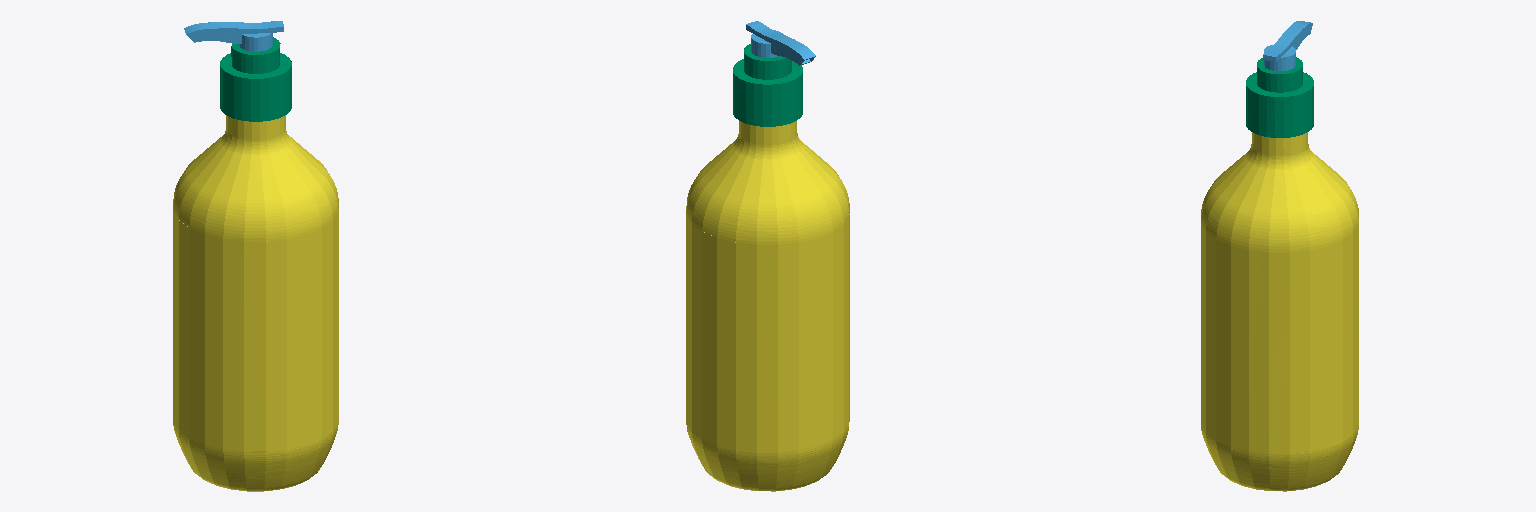
URDF robot description (partnet_2ee426dc-f596-4d61-acdf-8318ec993da3-0):
<?xml version="1.0" ?>
<robot name="partnet_2ee426dc-f596-4d61-acdf-8318ec993da3-0">
	<link name="base"/>
	<link name="link_0">
		<visual name="pressing_lid-1">
			<origin xyz="0.004993354378022013 0 -0.0007900618126496951"/>
			<geometry>
				<mesh filename="textured_objs/original_7.obj"/>
			</geometry>
		</visual>
		<visual name="pressing_lid-1">
			<origin xyz="0.004993354378022013 0 -0.0007900618126496951"/>
			<geometry>
				<mesh filename="textured_objs/original_10.obj"/>
			</geometry>
		</visual>
		<visual name="pressing_lid-1">
			<origin xyz="0.004993354378022013 0 -0.0007900618126496951"/>
			<geometry>
				<mesh filename="textured_objs/original_11.obj"/>
			</geometry>
		</visual>
		<collision>
			<origin xyz="0.004993354378022013 0 -0.0007900618126496951"/>
			<geometry>
				<mesh filename="textured_objs/original_7.obj"/>
			</geometry>
		</collision>
		<collision>
			<origin xyz="0.004993354378022013 0 -0.0007900618126496951"/>
			<geometry>
				<mesh filename="textured_objs/original_10.obj"/>
			</geometry>
		</collision>
		<collision>
			<origin xyz="0.004993354378022013 0 -0.0007900618126496951"/>
			<geometry>
				<mesh filename="textured_objs/original_11.obj"/>
			</geometry>
		</collision>
	</link>
	<joint name="joint_0" type="continuous">
		<origin xyz="0.0 0 0.0"/>
		<axis xyz="0 1 0"/>
		<child link="link_0"/>
		<parent link="link_0_helper"/>
	</joint>
	<link name="link_1">
		<visual name="head-3">
			<origin xyz="0.004993574003769707 0 -0.0007900156345557741"/>
			<geometry>
				<mesh filename="textured_objs/original_8.obj"/>
			</geometry>
		</visual>
		<visual name="head-3">
			<origin xyz="0.004993574003769707 0 -0.0007900156345557741"/>
			<geometry>
				<mesh filename="textured_objs/original_6.obj"/>
			</geometry>
		</visual>
		<collision>
			<origin xyz="0.004993574003769707 0 -0.0007900156345557741"/>
			<geometry>
				<mesh filename="textured_objs/original_8.obj"/>
			</geometry>
		</collision>
		<collision>
			<origin xyz="0.004993574003769707 0 -0.0007900156345557741"/>
			<geometry>
				<mesh filename="textured_objs/original_6.obj"/>
			</geometry>
		</collision>
	</link>
	<joint name="joint_1" type="continuous">
		<origin xyz="0.0 0 0.0"/>
		<axis xyz="0 1 0"/>
		<child link="link_1"/>
		<parent link="link_1_helper"/>
	</joint>
	<link name="link_2">
		<visual name="base_body-4">
			<origin xyz="0 0 0"/>
			<geometry>
				<mesh filename="textured_objs/original_4.obj"/>
			</geometry>
		</visual>
		<visual name="base_body-4">
			<origin xyz="0 0 0"/>
			<geometry>
				<mesh filename="textured_objs/original_3.obj"/>
			</geometry>
		</visual>
		<visual name="base_body-4">
			<origin xyz="0 0 0"/>
			<geometry>
				<mesh filename="textured_objs/original_2.obj"/>
			</geometry>
		</visual>
		<visual name="base_body-4">
			<origin xyz="0 0 0"/>
			<geometry>
				<mesh filename="textured_objs/original_1.obj"/>
			</geometry>
		</visual>
		<collision>
			<origin xyz="0 0 0"/>
			<geometry>
				<mesh filename="textured_objs/original_4.obj"/>
			</geometry>
		</collision>
		<collision>
			<origin xyz="0 0 0"/>
			<geometry>
				<mesh filename="textured_objs/original_3.obj"/>
			</geometry>
		</collision>
		<collision>
			<origin xyz="0 0 0"/>
			<geometry>
				<mesh filename="textured_objs/original_2.obj"/>
			</geometry>
		</collision>
		<collision>
			<origin xyz="0 0 0"/>
			<geometry>
				<mesh filename="textured_objs/original_1.obj"/>
			</geometry>
		</collision>
	</link>
	<joint name="joint_2" type="fixed">
		<origin rpy="1.570796326794897 0 -1.570796326794897" xyz="0 0 0"/>
		<child link="link_2"/>
		<parent link="base"/>
	</joint>
	<link name="link_0_helper">
		<inertial>
			<origin xyz="0 0 0"/>
			<mass value="1e-6"/>
			<inertia ixx="1e-10" ixy="0" ixz="0" iyy="1e-10" iyz="0" izz="1e-10"/>
		</inertial>
	</link>
	<joint name="joint_3" type="prismatic">
		<origin xyz="2.196257476941993e-07 0 4.6178093921086204e-08"/>
		<axis xyz="0 -1 0"/>
		<child link="link_0_helper"/>
		<parent link="link_1"/>
		<limit lower="0" upper="0.02"/>
	</joint>
	<link name="link_1_helper">
		<inertial>
			<origin xyz="0 0 0"/>
			<mass value="1e-6"/>
			<inertia ixx="1e-10" ixy="0" ixz="0" iyy="1e-10" iyz="0" izz="1e-10"/>
		</inertial>
	</link>
	<joint name="joint_4" type="prismatic">
		<origin xyz="-0.004993574003769707 0 0.0007900156345557741"/>
		<axis xyz="0 1 0"/>
		<child link="link_1_helper"/>
		<parent link="link_2"/>
		<limit lower="0" upper="0.02"/>
	</joint>
</robot>

--- Facts derived from the render (not from the file) ---
The picture shows the robot from 3 angles, left to right: view 1: azimuth 30°, elevation 25°; view 2: azimuth 150°, elevation 25°; view 3: azimuth 270°, elevation 25°; orthographic projection.
Model partnet_2ee426dc-f596-4d61-acdf-8318ec993da3-0 with 6 links and 5 joints (2 continuous, 2 prismatic, 1 fixed), rooted at base, posed all joints at 0.
Visible links, largest first — view 1: link_2, link_1, link_0; view 2: link_2, link_1, link_0; view 3: link_2, link_1, link_0.
Link boxes in pixels (<box>): link_2: <box>173,115,338,491</box>; link_1: <box>220,37,291,121</box>; link_0: <box>184,21,283,51</box>; link_2: <box>686,121,849,491</box>; link_1: <box>733,44,802,126</box>; link_0: <box>746,21,815,65</box>; link_2: <box>1201,132,1358,491</box>; link_1: <box>1246,57,1313,137</box>; link_0: <box>1263,21,1312,70</box>.
Bounding box of the posed robot: 0.5686 × 0.5687 × 1.68 m (x, y, z).
Meshes: 9 distinct files referenced, 9 mesh visuals loaded (9 OBJ).
